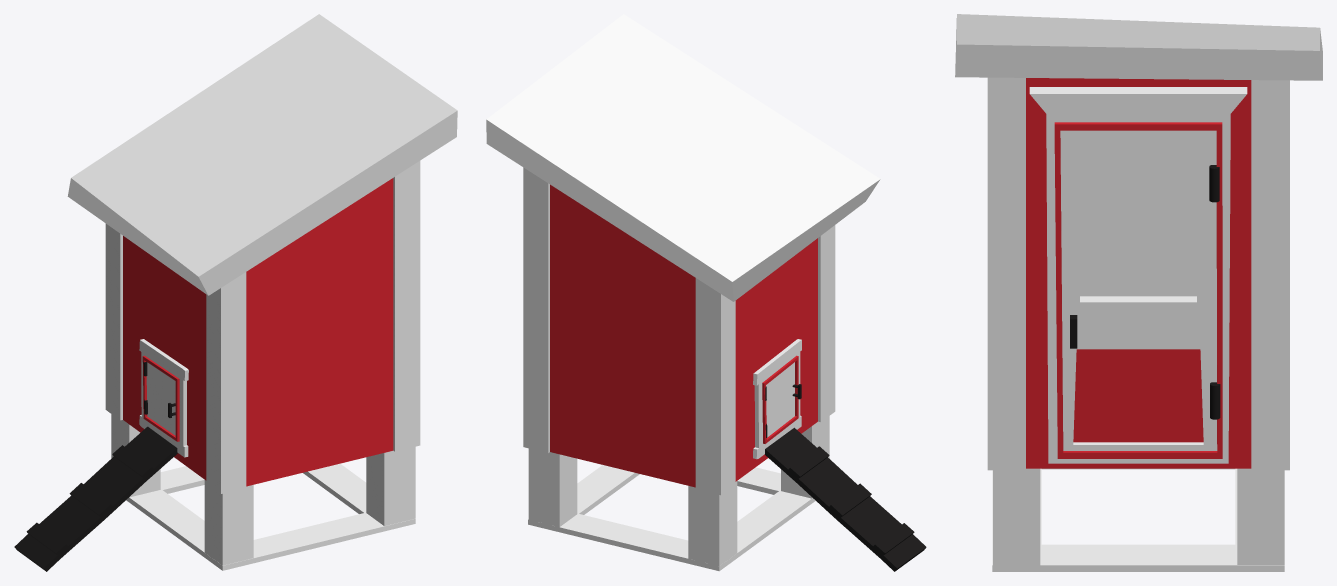
The model's file is ChickenCoopPractice.fbx.
3 views of the same model, side by side, from view 1: azimuth 30°, elevation 25°; view 2: azimuth 150°, elevation 25°; view 3: azimuth 270°, elevation 25° (orthographic). The views are drawn at different scales.
Parts seen in each view (by area): view 1: Roof, Coop, Back Right Pillar, Base, Front Right Pillar, Walkway, Back Right Stand, Front Right Stand, Hatch, Back Left Pillar, Back Left Stand, Hatch Frame; view 2: Roof, Coop, Back Left Pillar, Base, Front Left Pillar, Walkway, Back Left Stand, Front Left Stand, Hatch, Back Right Pillar, Back Right Stand, Hatch Frame; view 3: Door, Roof, Coop, Front Right Pillar, Front Left Pillar, Base, Door Frame, Front Right Stand, Front Left Stand.
Boxes of the visible parts, left/top/right/bottom form: Roof: left=67, top=14, right=457, bottom=295; Coop: left=123, top=178, right=393, bottom=486; Back Right Pillar: left=206, top=272, right=246, bottom=493; Base: left=126, top=463, right=415, bottom=570; Front Right Pillar: left=393, top=161, right=420, bottom=451; Walkway: left=14, top=426, right=177, bottom=571; Back Right Stand: left=204, top=480, right=253, bottom=565; Front Right Stand: left=366, top=446, right=415, bottom=525; Hatch: left=139, top=339, right=188, bottom=457; Back Left Pillar: left=105, top=223, right=122, bottom=420; Back Left Stand: left=111, top=414, right=160, bottom=497; Hatch Frame: left=142, top=355, right=179, bottom=441; Roof: left=486, top=14, right=880, bottom=301; Coop: left=550, top=184, right=817, bottom=487; Back Left Pillar: left=695, top=278, right=735, bottom=495; Base: left=528, top=465, right=815, bottom=571; Front Left Pillar: left=523, top=167, right=549, bottom=452; Walkway: left=765, top=427, right=926, bottom=571; Back Left Stand: left=688, top=481, right=737, bottom=566; Front Left Stand: left=528, top=448, right=577, bottom=527; Hatch: left=753, top=339, right=801, bottom=459; Back Right Pillar: left=818, top=225, right=835, bottom=422; Back Right Stand: left=781, top=416, right=829, bottom=498; Hatch Frame: left=762, top=355, right=798, bottom=443; Door: left=1029, top=87, right=1247, bottom=463; Roof: left=955, top=14, right=1322, bottom=80; Coop: left=1026, top=78, right=1251, bottom=468; Front Right Pillar: left=987, top=77, right=1025, bottom=470; Front Left Pillar: left=1251, top=80, right=1289, bottom=470; Base: left=992, top=468, right=1284, bottom=571; Door Frame: left=1054, top=122, right=1222, bottom=458; Front Right Stand: left=993, top=468, right=1040, bottom=565; Front Left Stand: left=1237, top=468, right=1284, bottom=564.
Size of the model in its own units: 804 by 889 by 543.
